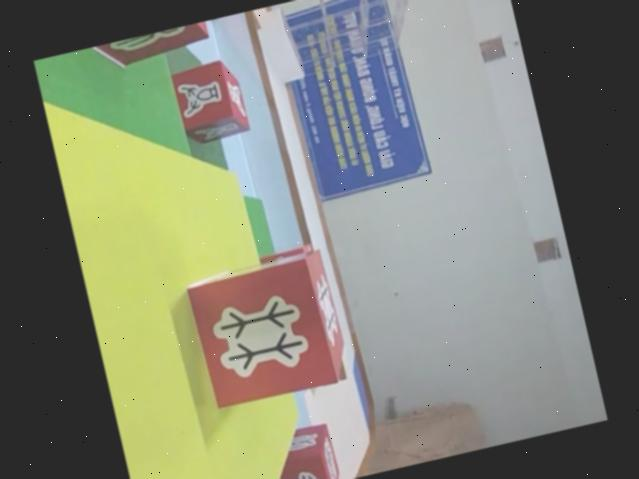R2 Fake: (56, 19, 216, 80), (260, 418, 342, 479)
R2 Real: (177, 243, 355, 413), (162, 54, 253, 147)
